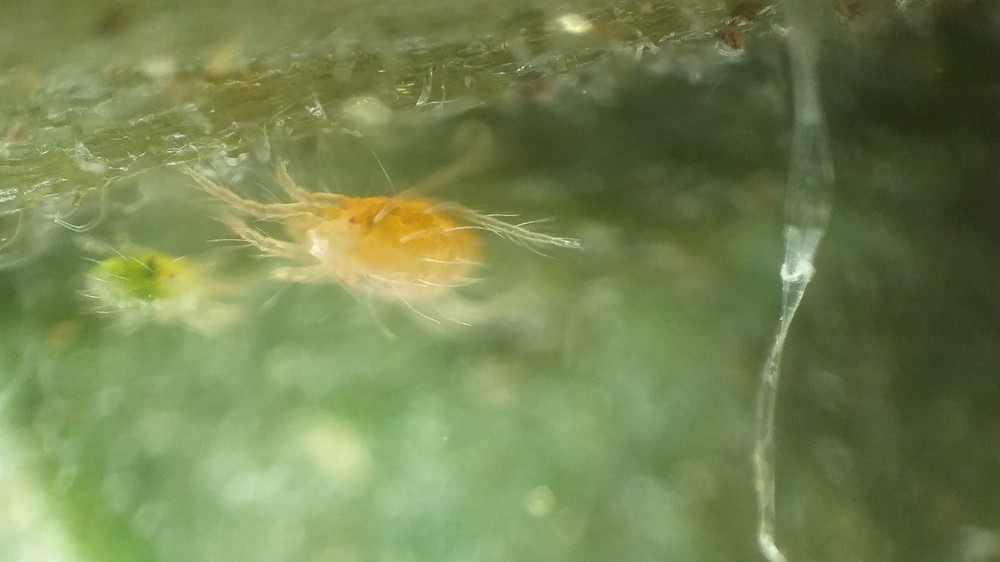Aracnido Rojo: (192, 121, 594, 362), (68, 215, 262, 355)
